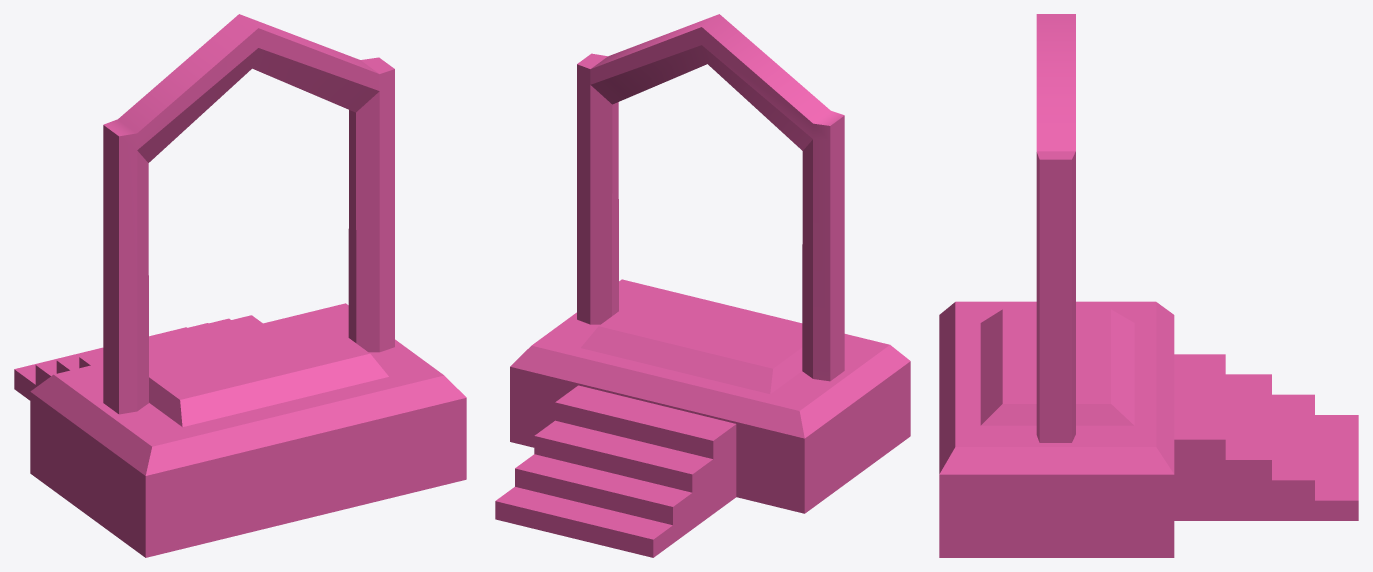
Rendered from portal.glb.
3 views of the same model, side by side, from view 1: azimuth 30°, elevation 25°; view 2: azimuth 150°, elevation 25°; view 3: azimuth 270°, elevation 25° (orthographic). The views are drawn at different scales.
Parts seen in each view (by area): view 1: stairs.001; view 2: stairs.001; view 3: stairs.001.
Boxes of the visible parts, box(x1,y1,x2,y2) form: stairs.001: box(14, 14, 466, 557); stairs.001: box(495, 14, 910, 557); stairs.001: box(939, 14, 1358, 557).
Size of the model in its own units: 4.91 by 6.66 by 5.45.
